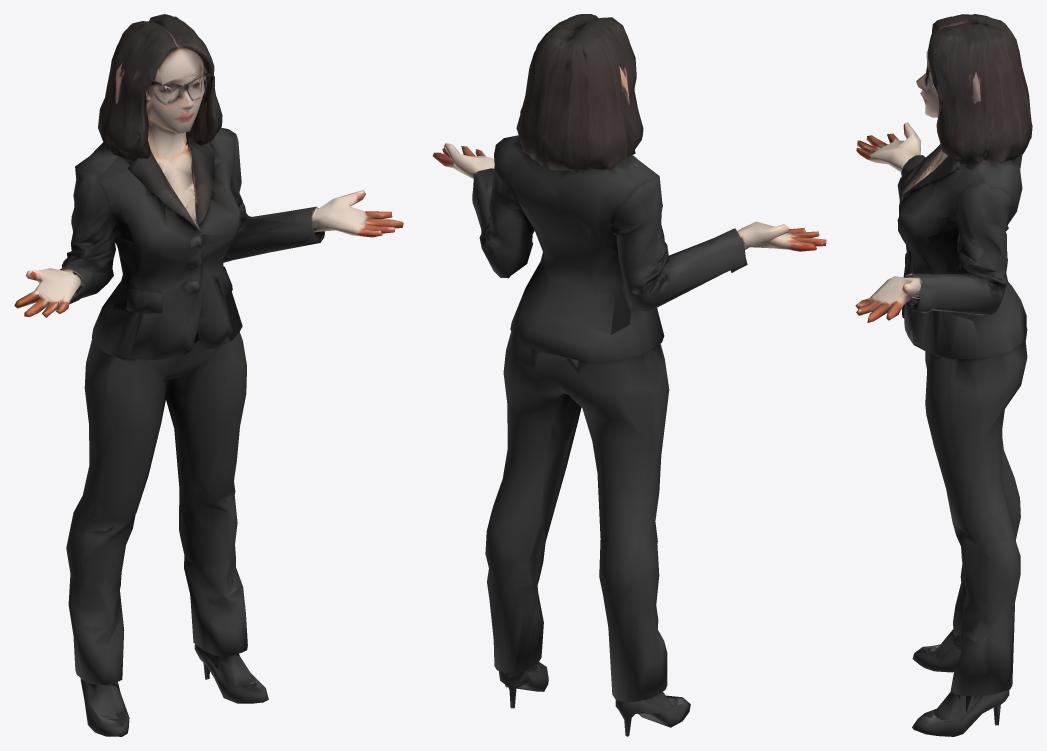
File: VirtualGuide.glb
The picture shows the model from 3 angles, left to right: view 1: azimuth 30°, elevation 25°; view 2: azimuth 150°, elevation 25°; view 3: azimuth 270°, elevation 25°; orthographic projection. The views are drawn at different scales.
Parts seen in each view (by area): view 1: VirtualGuide; view 2: VirtualGuide; view 3: VirtualGuide.
Boxes of the visible parts, <box> form: VirtualGuide: <box>14,14,403,736</box>; VirtualGuide: <box>432,14,826,736</box>; VirtualGuide: <box>855,14,1032,736</box>.
Size of the model in its own units: 0.9917 by 1.7 by 0.4028.
Materials: 1 (1 with a texture image).
